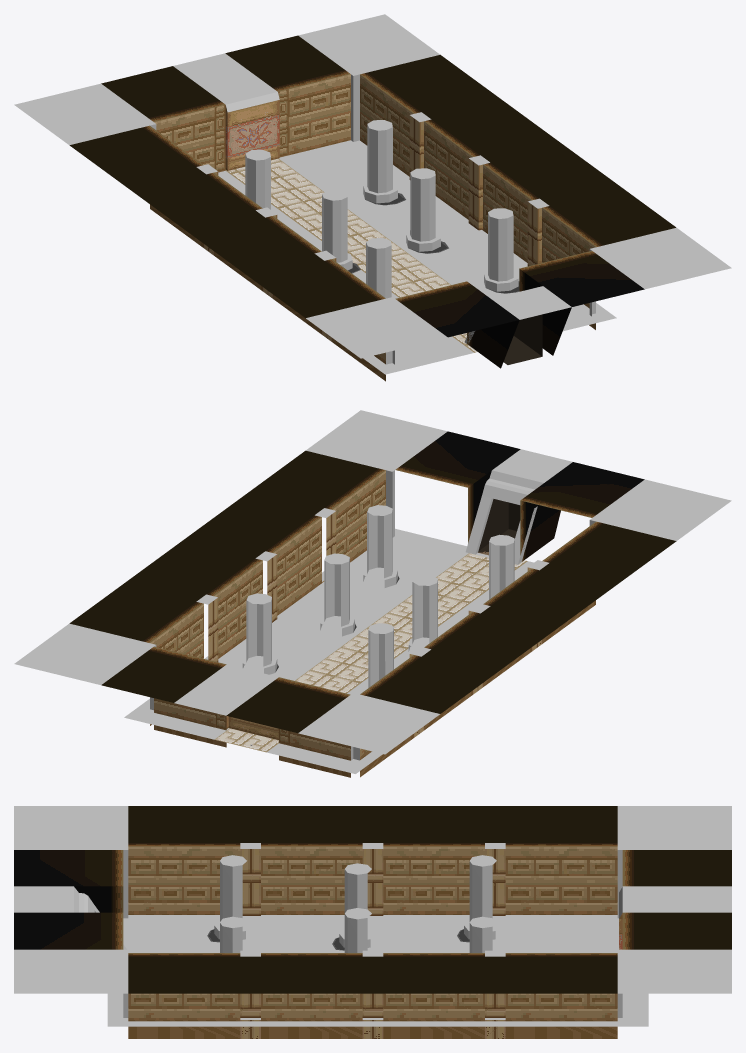
The model's file is m_dun0413_00_00.obj.
3 renders of one model, top to bottom at view 1: azimuth 30°, elevation 25°; view 2: azimuth 150°, elevation 25°; view 3: azimuth 270°, elevation 25°, orthographic. The views are drawn at different scales.
Parts seen in each view (by area): view 1: in10_kabe05_lay0_QUADS_VisGroup0, in10_tile05_lay0_QUADS_VisGroup0, in10_kabe08_lay0_QUADS_VisGroup0, in10_tile04_lay0_QUADS_VisGroup0, in10_has01_lay0_QUADS_VisGroup0, in10_tile07_lay0_QUADS_VisGroup0, in10_kabe05_lay0_TRIS_VisGroup0, in10_tile06_lay0_QUADS_VisGroup0, in10_hekiga_lay0_QUADS_VisGroup0, in10_kabe09_lay0_QUADS_VisGroup0, in10_has01_lay0_TRIS_VisGroup0, in10_kabe06_lay0_QUADS_VisGroup0 (+2 smaller); view 2: in10_kabe05_lay0_QUADS_VisGroup0, in10_tile05_lay0_QUADS_VisGroup0, in10_tile04_lay0_QUADS_VisGroup0, in10_kabe08_lay0_QUADS_VisGroup0, in10_has01_lay0_QUADS_VisGroup0, in10_tile07_lay0_QUADS_VisGroup0, in10_kabe05_lay0_TRIS_VisGroup0, in10_tile06_lay0_QUADS_VisGroup0, in10_has01_lay0_TRIS_VisGroup0, in10_kabe09_lay0_QUADS_VisGroup0, in45_gate01_lay0_QUADS_VisGroup0, in10_tile03_lay0_QUADS_VisGroup0 (+1 smaller); view 3: in10_kabe05_lay0_QUADS_VisGroup0, in10_kabe08_lay0_QUADS_VisGroup0, in10_tile04_lay0_QUADS_VisGroup0, in10_tile05_lay0_QUADS_VisGroup0, in10_kabe09_lay0_QUADS_VisGroup0, in10_has01_lay0_QUADS_VisGroup0, in10_tile06_lay0_QUADS_VisGroup0, in10_kabe05_lay0_TRIS_VisGroup0, in10_has01_lay0_TRIS_VisGroup0, in10_tile03_lay0_QUADS_VisGroup0, in10_tile05_lay0_TRIS_VisGroup0.
Boxes of the visible parts, x1,y1,x2,y2 form: in10_kabe05_lay0_QUADS_VisGroup0: (69,35,675,347); in10_tile05_lay0_QUADS_VisGroup0: (14,14,731,358); in10_kabe08_lay0_QUADS_VisGroup0: (150,74,595,381); in10_tile04_lay0_QUADS_VisGroup0: (218,140,616,374); in10_has01_lay0_QUADS_VisGroup0: (245,124,518,298); in10_tile07_lay0_QUADS_VisGroup0: (225,158,477,352); in10_kabe05_lay0_TRIS_VisGroup0: (448,273,644,368); in10_tile06_lay0_QUADS_VisGroup0: (173,53,546,301); in10_hekiga_lay0_QUADS_VisGroup0: (225,100,279,170); in10_kabe09_lay0_QUADS_VisGroup0: (204,115,541,341); in10_has01_lay0_TRIS_VisGroup0: (245,120,518,283); in10_kabe06_lay0_QUADS_VisGroup0: (214,89,288,171); in10_kabe05_lay0_QUADS_VisGroup0: (69,431,676,733); in10_tile05_lay0_QUADS_VisGroup0: (14,410,731,754); in10_tile04_lay0_QUADS_VisGroup0: (124,449,572,773); in10_kabe08_lay0_QUADS_VisGroup0: (150,470,595,777); in10_has01_lay0_QUADS_VisGroup0: (242,510,514,687); in10_tile07_lay0_QUADS_VisGroup0: (214,553,527,752); in10_kabe05_lay0_TRIS_VisGroup0: (448,431,643,558); in10_tile06_lay0_QUADS_VisGroup0: (174,467,547,715); in10_has01_lay0_TRIS_VisGroup0: (242,505,514,689); in10_kabe09_lay0_QUADS_VisGroup0: (208,511,541,737); in45_gate01_lay0_QUADS_VisGroup0: (478,499,520,555); in10_tile03_lay0_QUADS_VisGroup0: (150,470,595,760); in10_kabe05_lay0_QUADS_VisGroup0: (14,806,731,993); in10_kabe08_lay0_QUADS_VisGroup0: (128,846,617,1038); in10_tile04_lay0_QUADS_VisGroup0: (14,886,648,1026); in10_tile05_lay0_QUADS_VisGroup0: (14,806,731,993); in10_kabe09_lay0_QUADS_VisGroup0: (240,849,505,1038); in10_has01_lay0_QUADS_VisGroup0: (214,861,495,952); in10_tile06_lay0_QUADS_VisGroup0: (66,886,731,918); in10_kabe05_lay0_TRIS_VisGroup0: (14,850,111,949); in10_has01_lay0_TRIS_VisGroup0: (214,855,500,939); in10_tile03_lay0_QUADS_VisGroup0: (94,850,622,1017); in10_tile05_lay0_TRIS_VisGroup0: (88,843,634,956).
Bounding box in the file's own units: 341 × 79.67 × 552.
